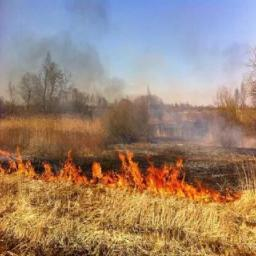Low smoke: (3, 0, 256, 138)
Small fire: (1, 149, 256, 196)
